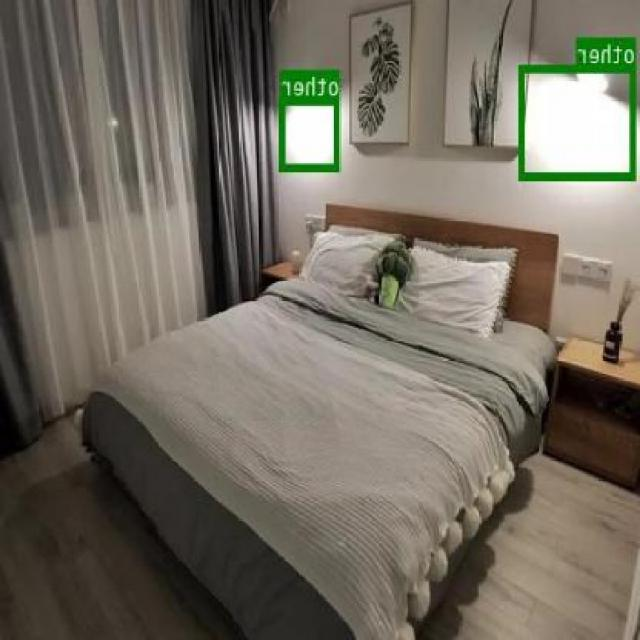other: (521, 64, 637, 180), (280, 96, 342, 169)
